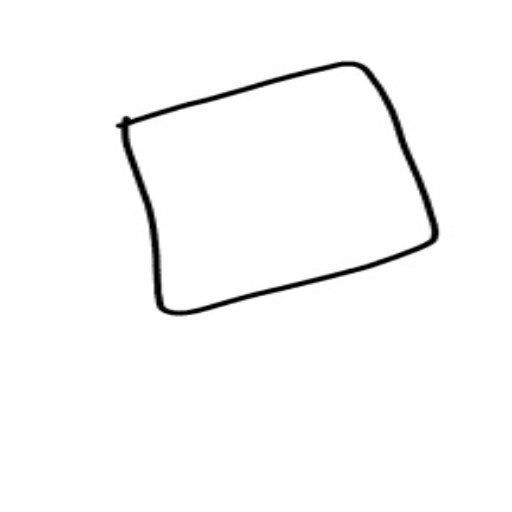square: (109, 57, 449, 327)
